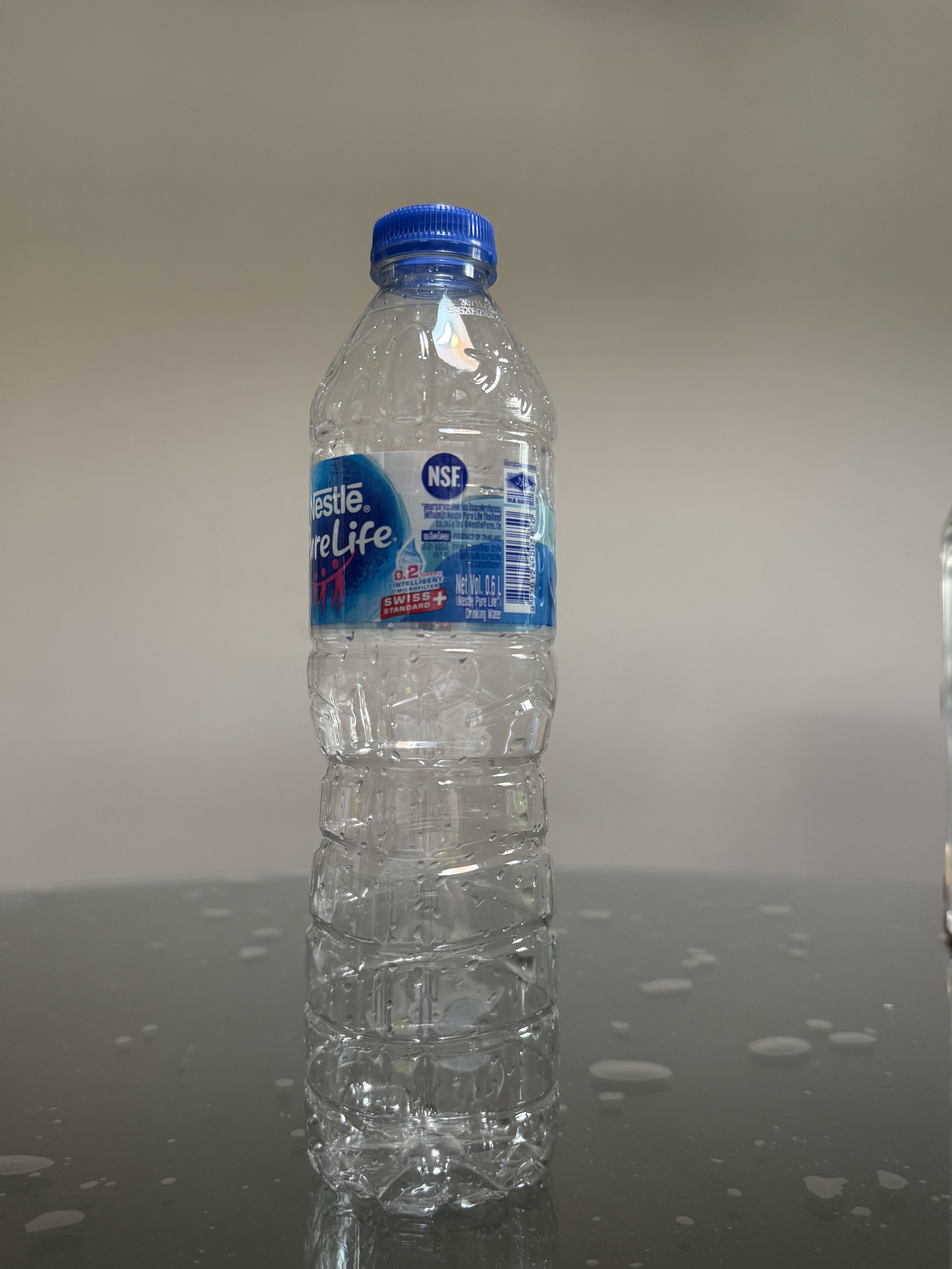closed_cap: (368, 200, 499, 286)
